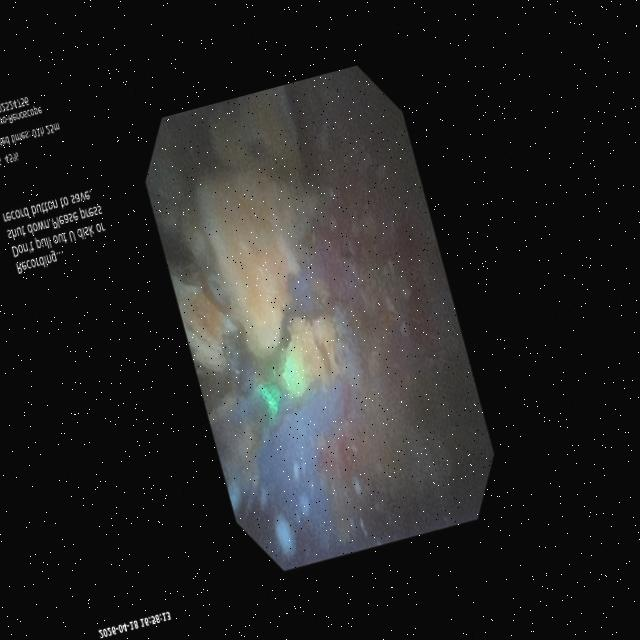laser-fibre: (211, 387, 273, 517)
laser_dot: (282, 355, 305, 397)
stone-new: (197, 172, 315, 356), (210, 86, 301, 176), (169, 269, 235, 372), (282, 316, 339, 397)
